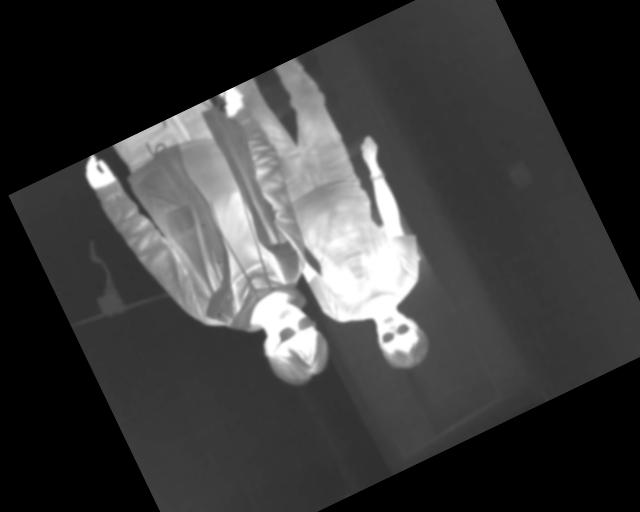face: (247, 293, 338, 396), (364, 298, 435, 378)
